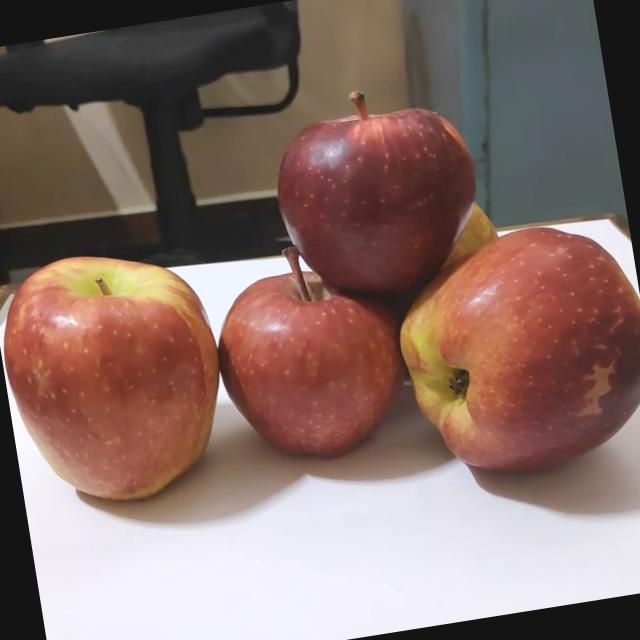apple: (369, 204, 640, 493), (0, 232, 232, 513), (254, 69, 494, 315), (193, 226, 415, 476), (394, 180, 504, 270)
